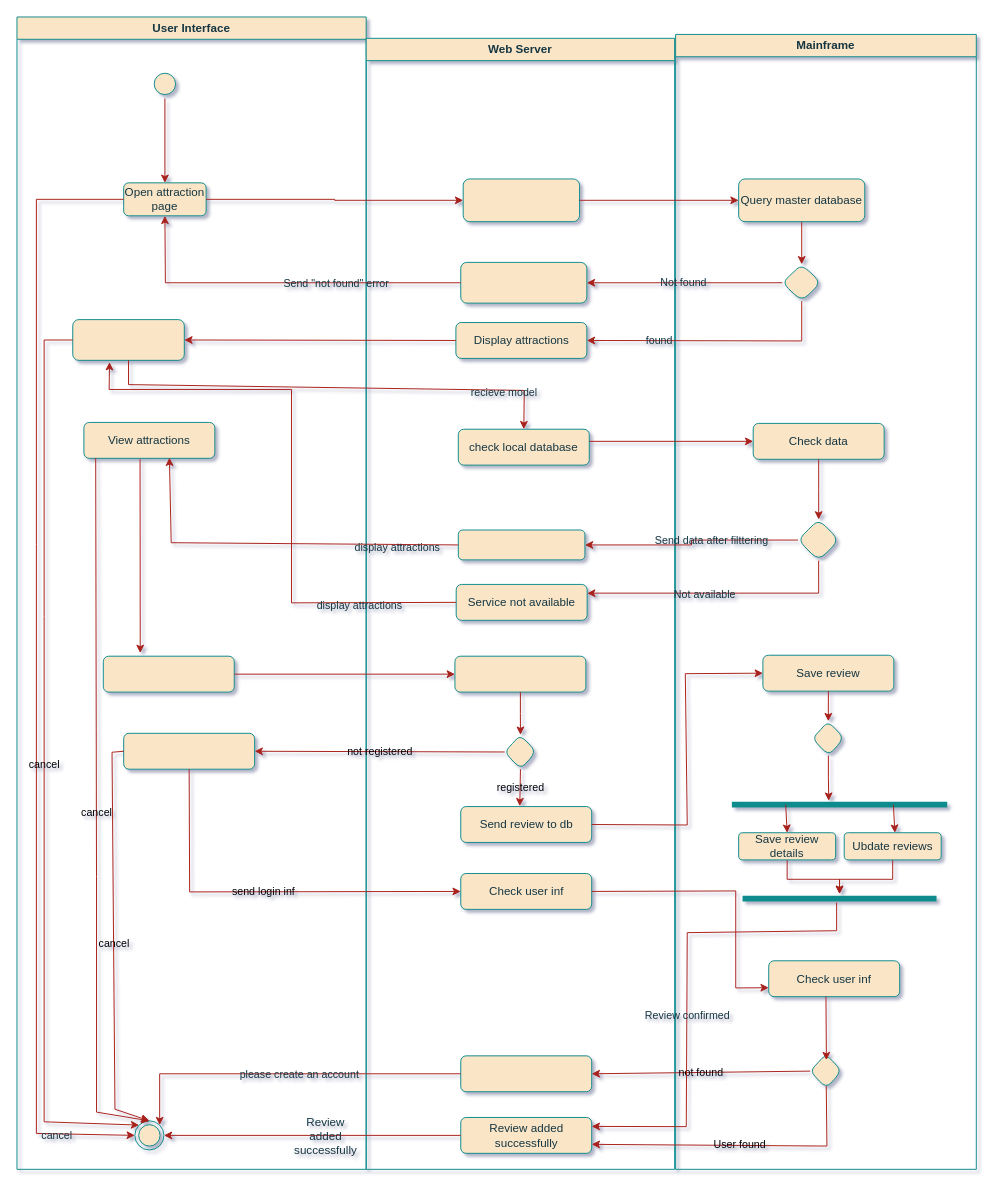
This 999x1192 diagram has some shape labels left out. The shapes that lost their labels are listed below. From the top down, each one's centre as x and y in pixels, then its label:
the point at 521,200: Display attraction
the point at 523,282: Display error message
the point at 128,339: select filter/search criteria
the point at 521,544: display data after filtering
the point at 168,673: Write review
the point at 520,673: Check login inf
the point at 189,750: Login page
the point at 526,1073: User not found
